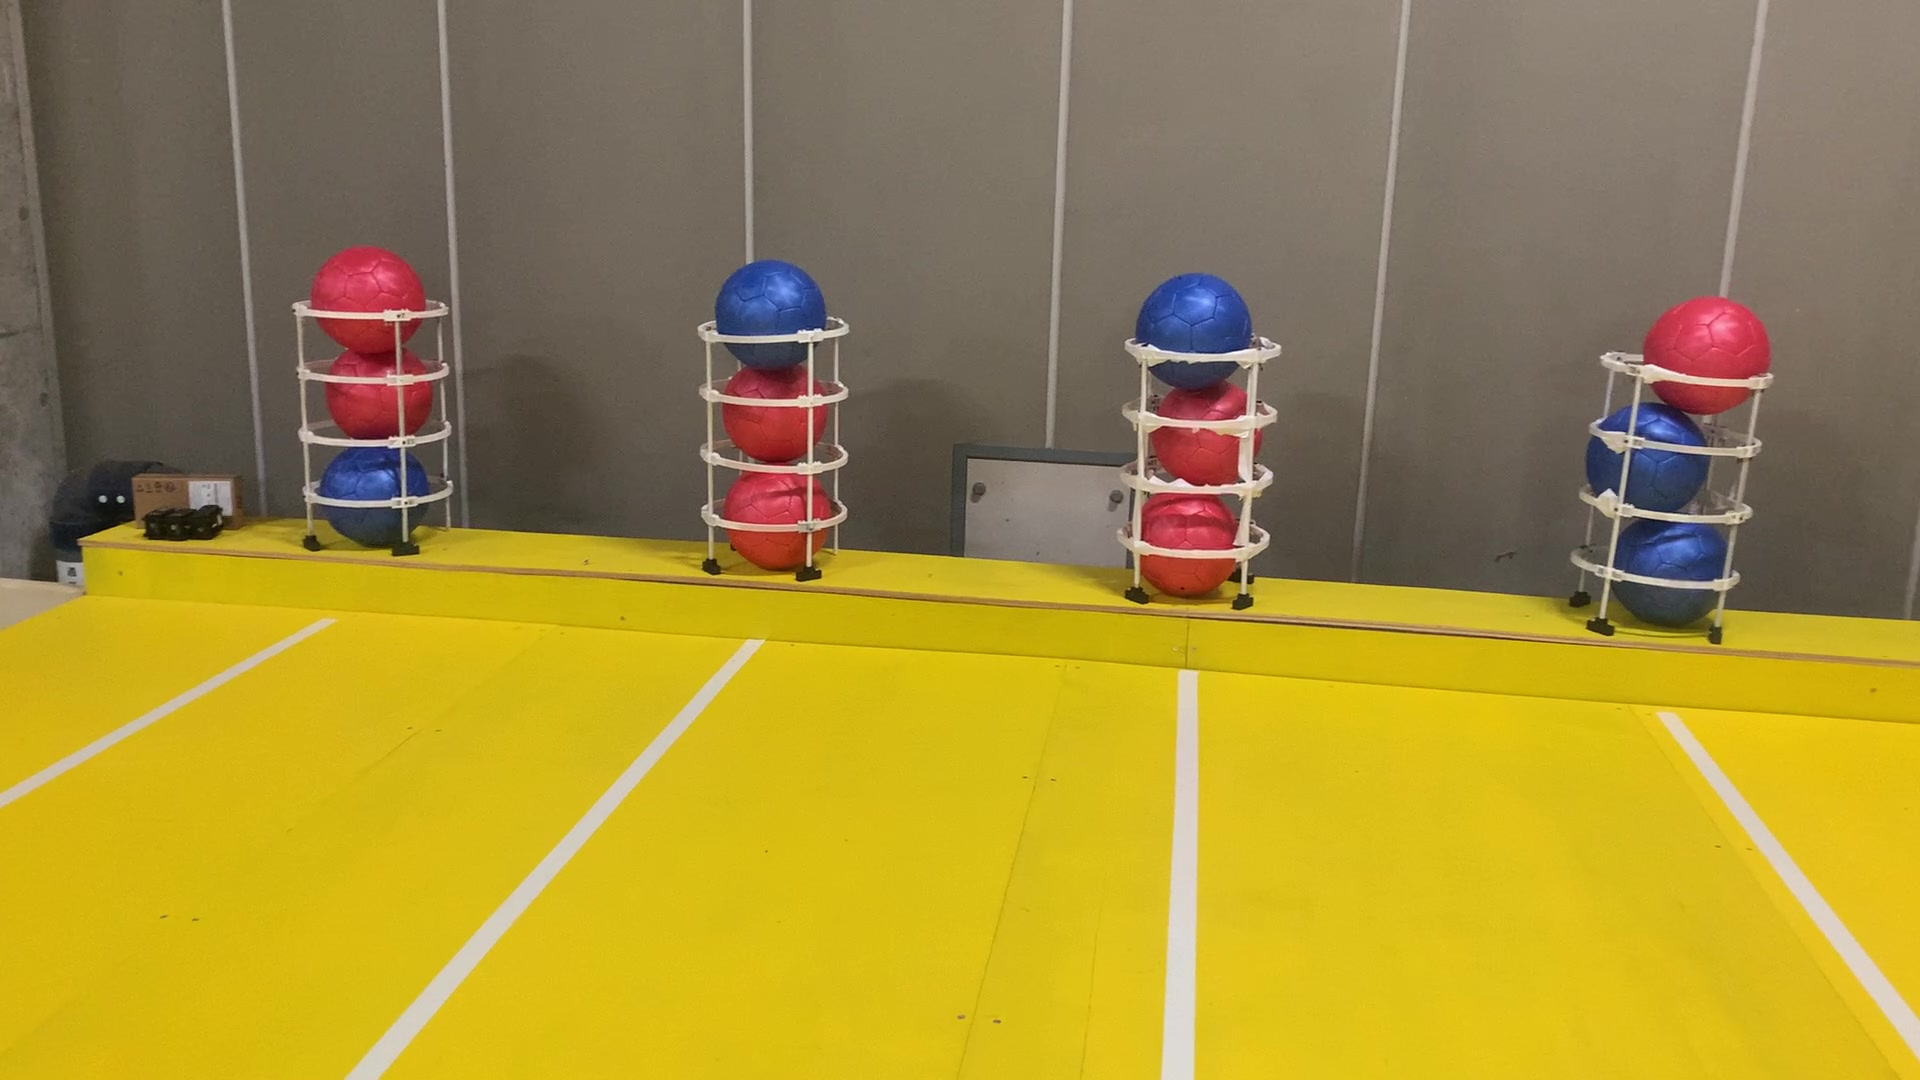blue: (1126, 261, 1262, 393), (1585, 393, 1720, 521), (1609, 489, 1735, 625), (319, 430, 430, 553), (712, 252, 825, 371)
red: (1635, 286, 1772, 417), (1117, 480, 1245, 603), (724, 455, 851, 575), (1142, 373, 1267, 489), (715, 352, 832, 473), (302, 239, 434, 345), (332, 342, 436, 443)
